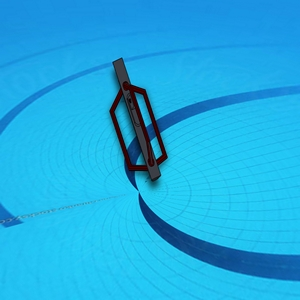submarine: (106, 58, 174, 181)
